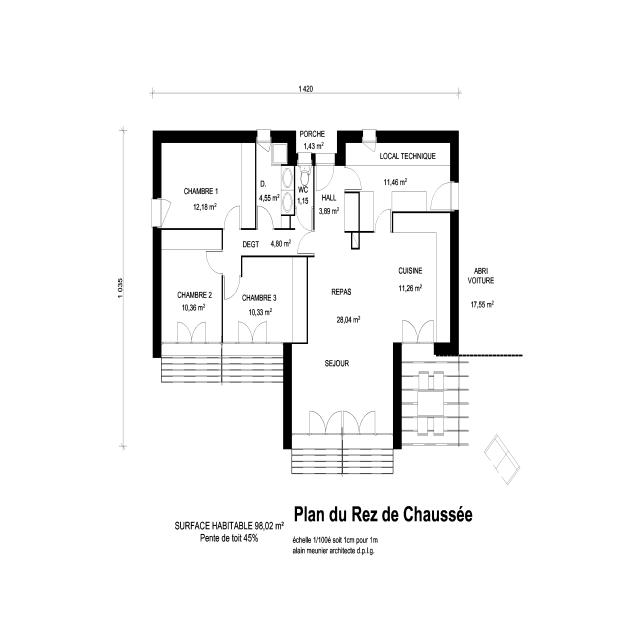door: (398, 316, 436, 346), (428, 179, 457, 212), (308, 407, 342, 435), (340, 408, 374, 434), (314, 158, 336, 191), (182, 320, 210, 343), (221, 202, 243, 231), (153, 195, 172, 228), (341, 165, 362, 191), (204, 248, 224, 274), (222, 274, 242, 300), (373, 206, 392, 232), (236, 318, 254, 344), (296, 231, 315, 255), (360, 128, 379, 152), (257, 204, 274, 228)
window: (360, 128, 379, 147), (254, 128, 274, 146)
zone: (290, 232, 398, 434), (392, 209, 455, 347), (158, 142, 254, 230), (344, 140, 453, 215), (223, 255, 310, 341), (160, 229, 222, 341), (255, 143, 295, 228), (294, 153, 314, 232)
